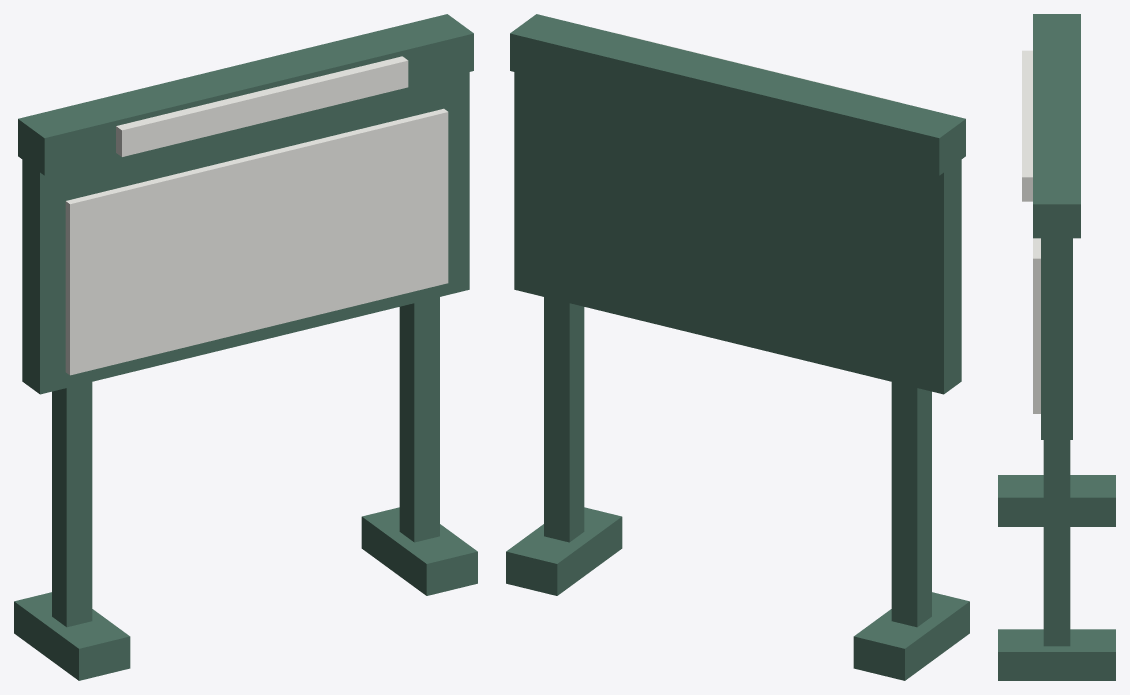
File: botanical-glasshouse-and-palm-house-botanical-glasshou-e93fb83b__38564.glb
3 renders of one model, left to right at view 1: azimuth 30°, elevation 25°; view 2: azimuth 150°, elevation 25°; view 3: azimuth 270°, elevation 25°, orthographic. The views are drawn at different scales.
Visible parts, largest first — view 1: botanical-glasshouse-and-palm-house-specimen-sign-board; view 2: botanical-glasshouse-and-palm-house-specimen-sign-board; view 3: botanical-glasshouse-and-palm-house-specimen-sign-board.
Boxes of the visible parts, x1,y1,x2,y2 form: botanical-glasshouse-and-palm-house-specimen-sign-board: (14,14,477,680); botanical-glasshouse-and-palm-house-specimen-sign-board: (506,14,969,680); botanical-glasshouse-and-palm-house-specimen-sign-board: (998,14,1115,680).
Bounding box in the file's own units: 0.84 × 0.995 × 0.22.
